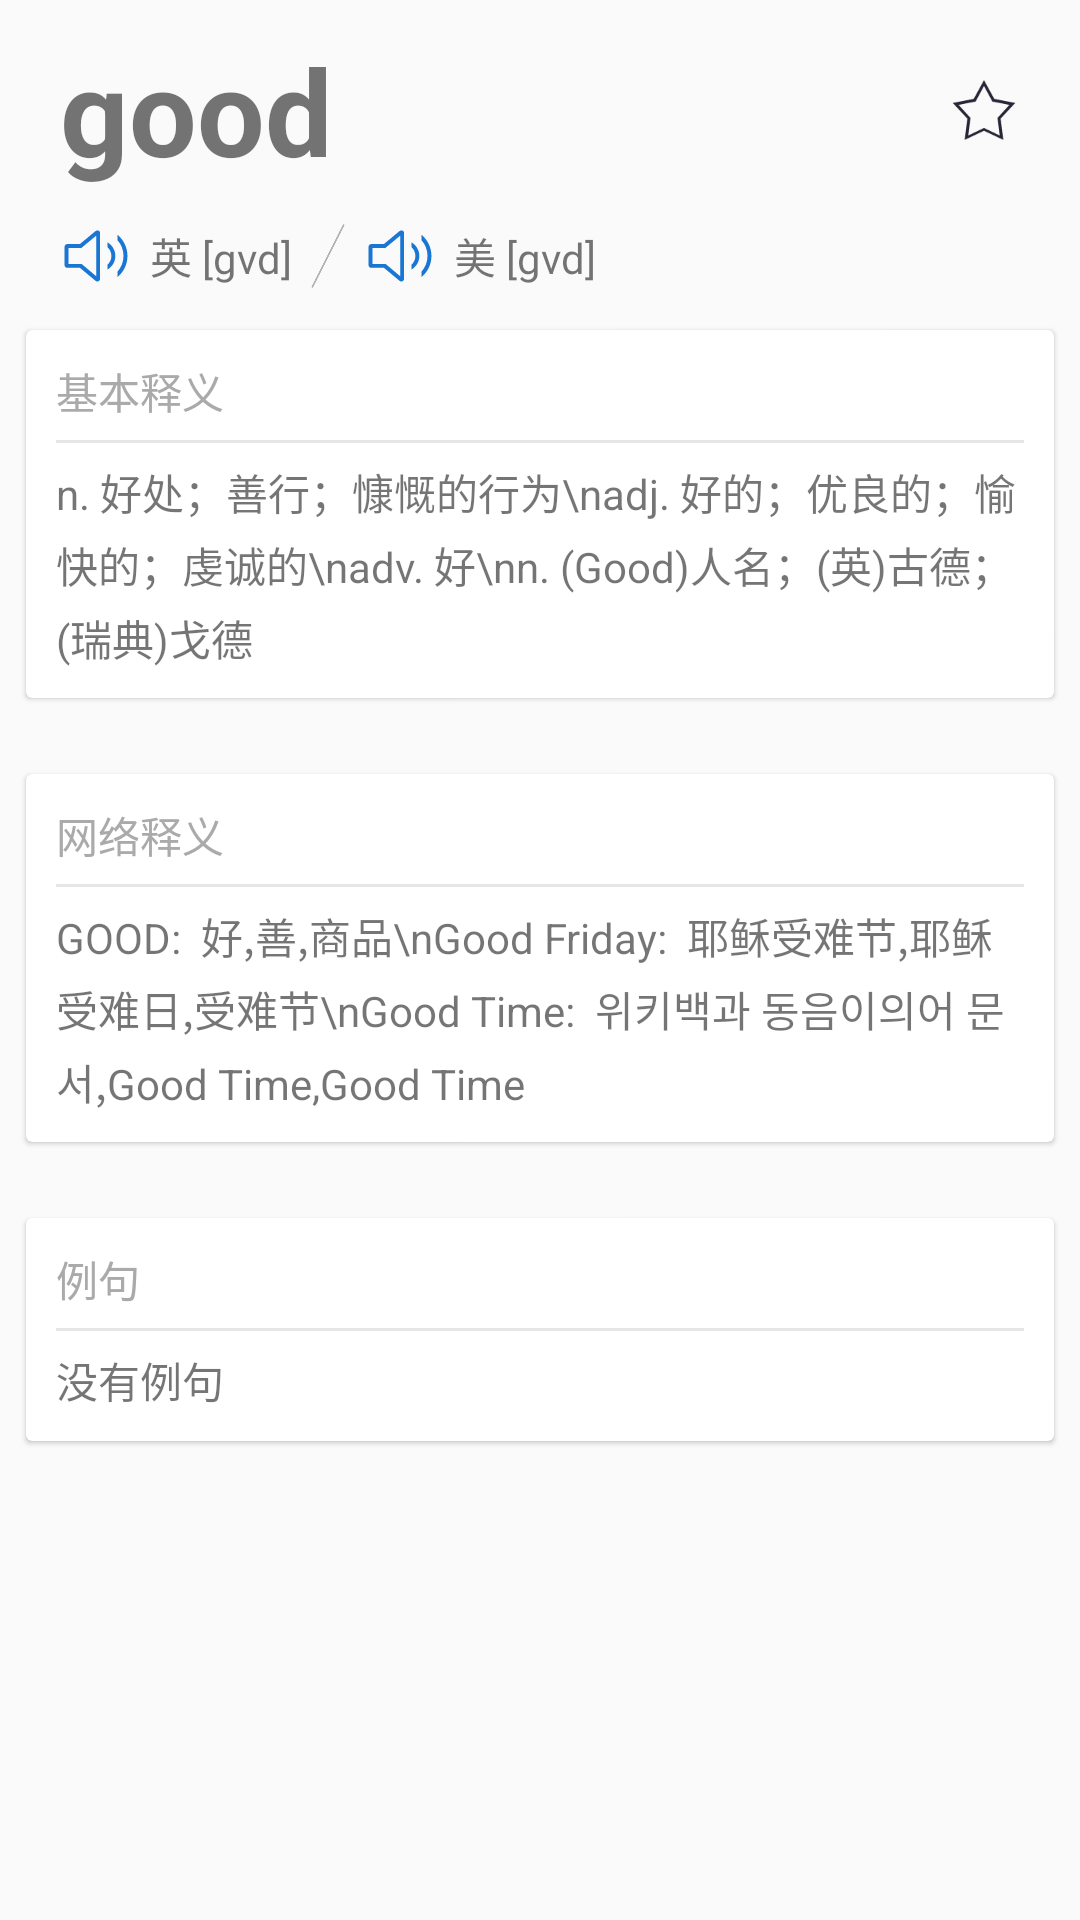

Screen size 1080w x 1920h. Icon name, then its box in pixels as region(x1, y1, x2, y2):
collection: region(953, 80, 1015, 140)
horn: region(64, 230, 128, 282), region(368, 230, 432, 282)
slash: region(312, 224, 344, 288)
